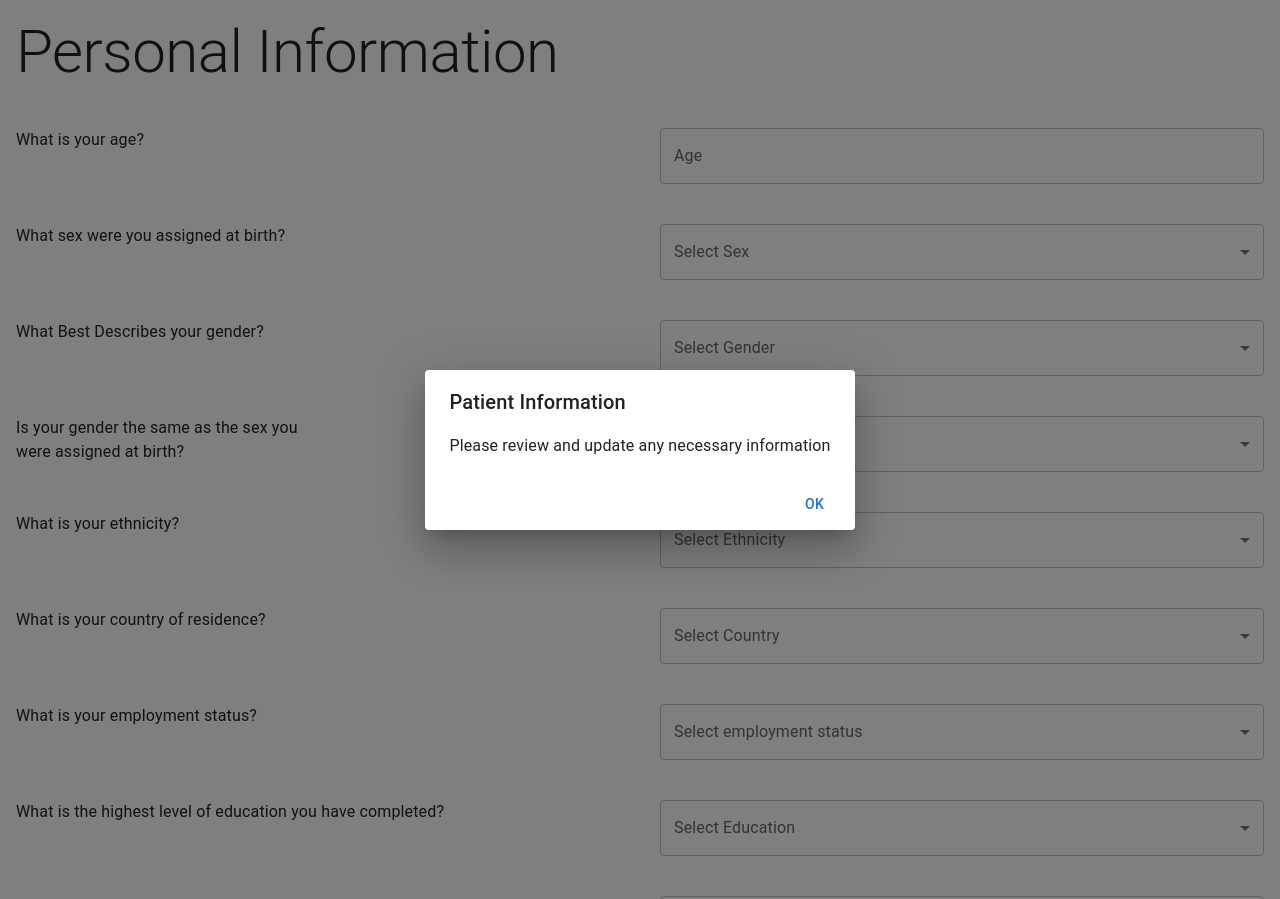
it: PatientInfoForm integration › Renders an empty form when no data is available
The width and height of the screenshot is (1280, 899).
Check: the dialog is shown, box [425,370,855,530]
Click the button "OK" at [815, 504], box [783,486,847,522]
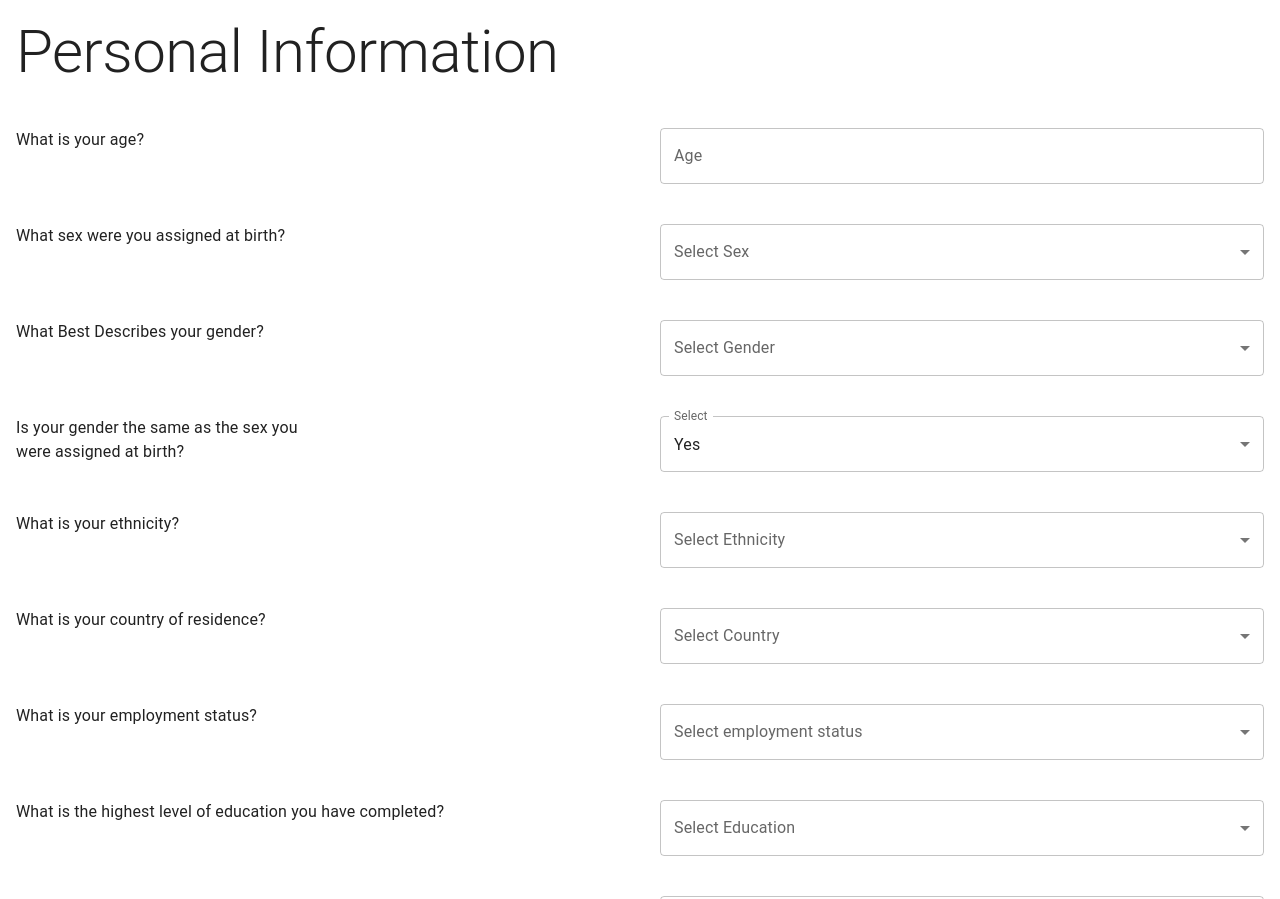
Check: the dialog is gone
